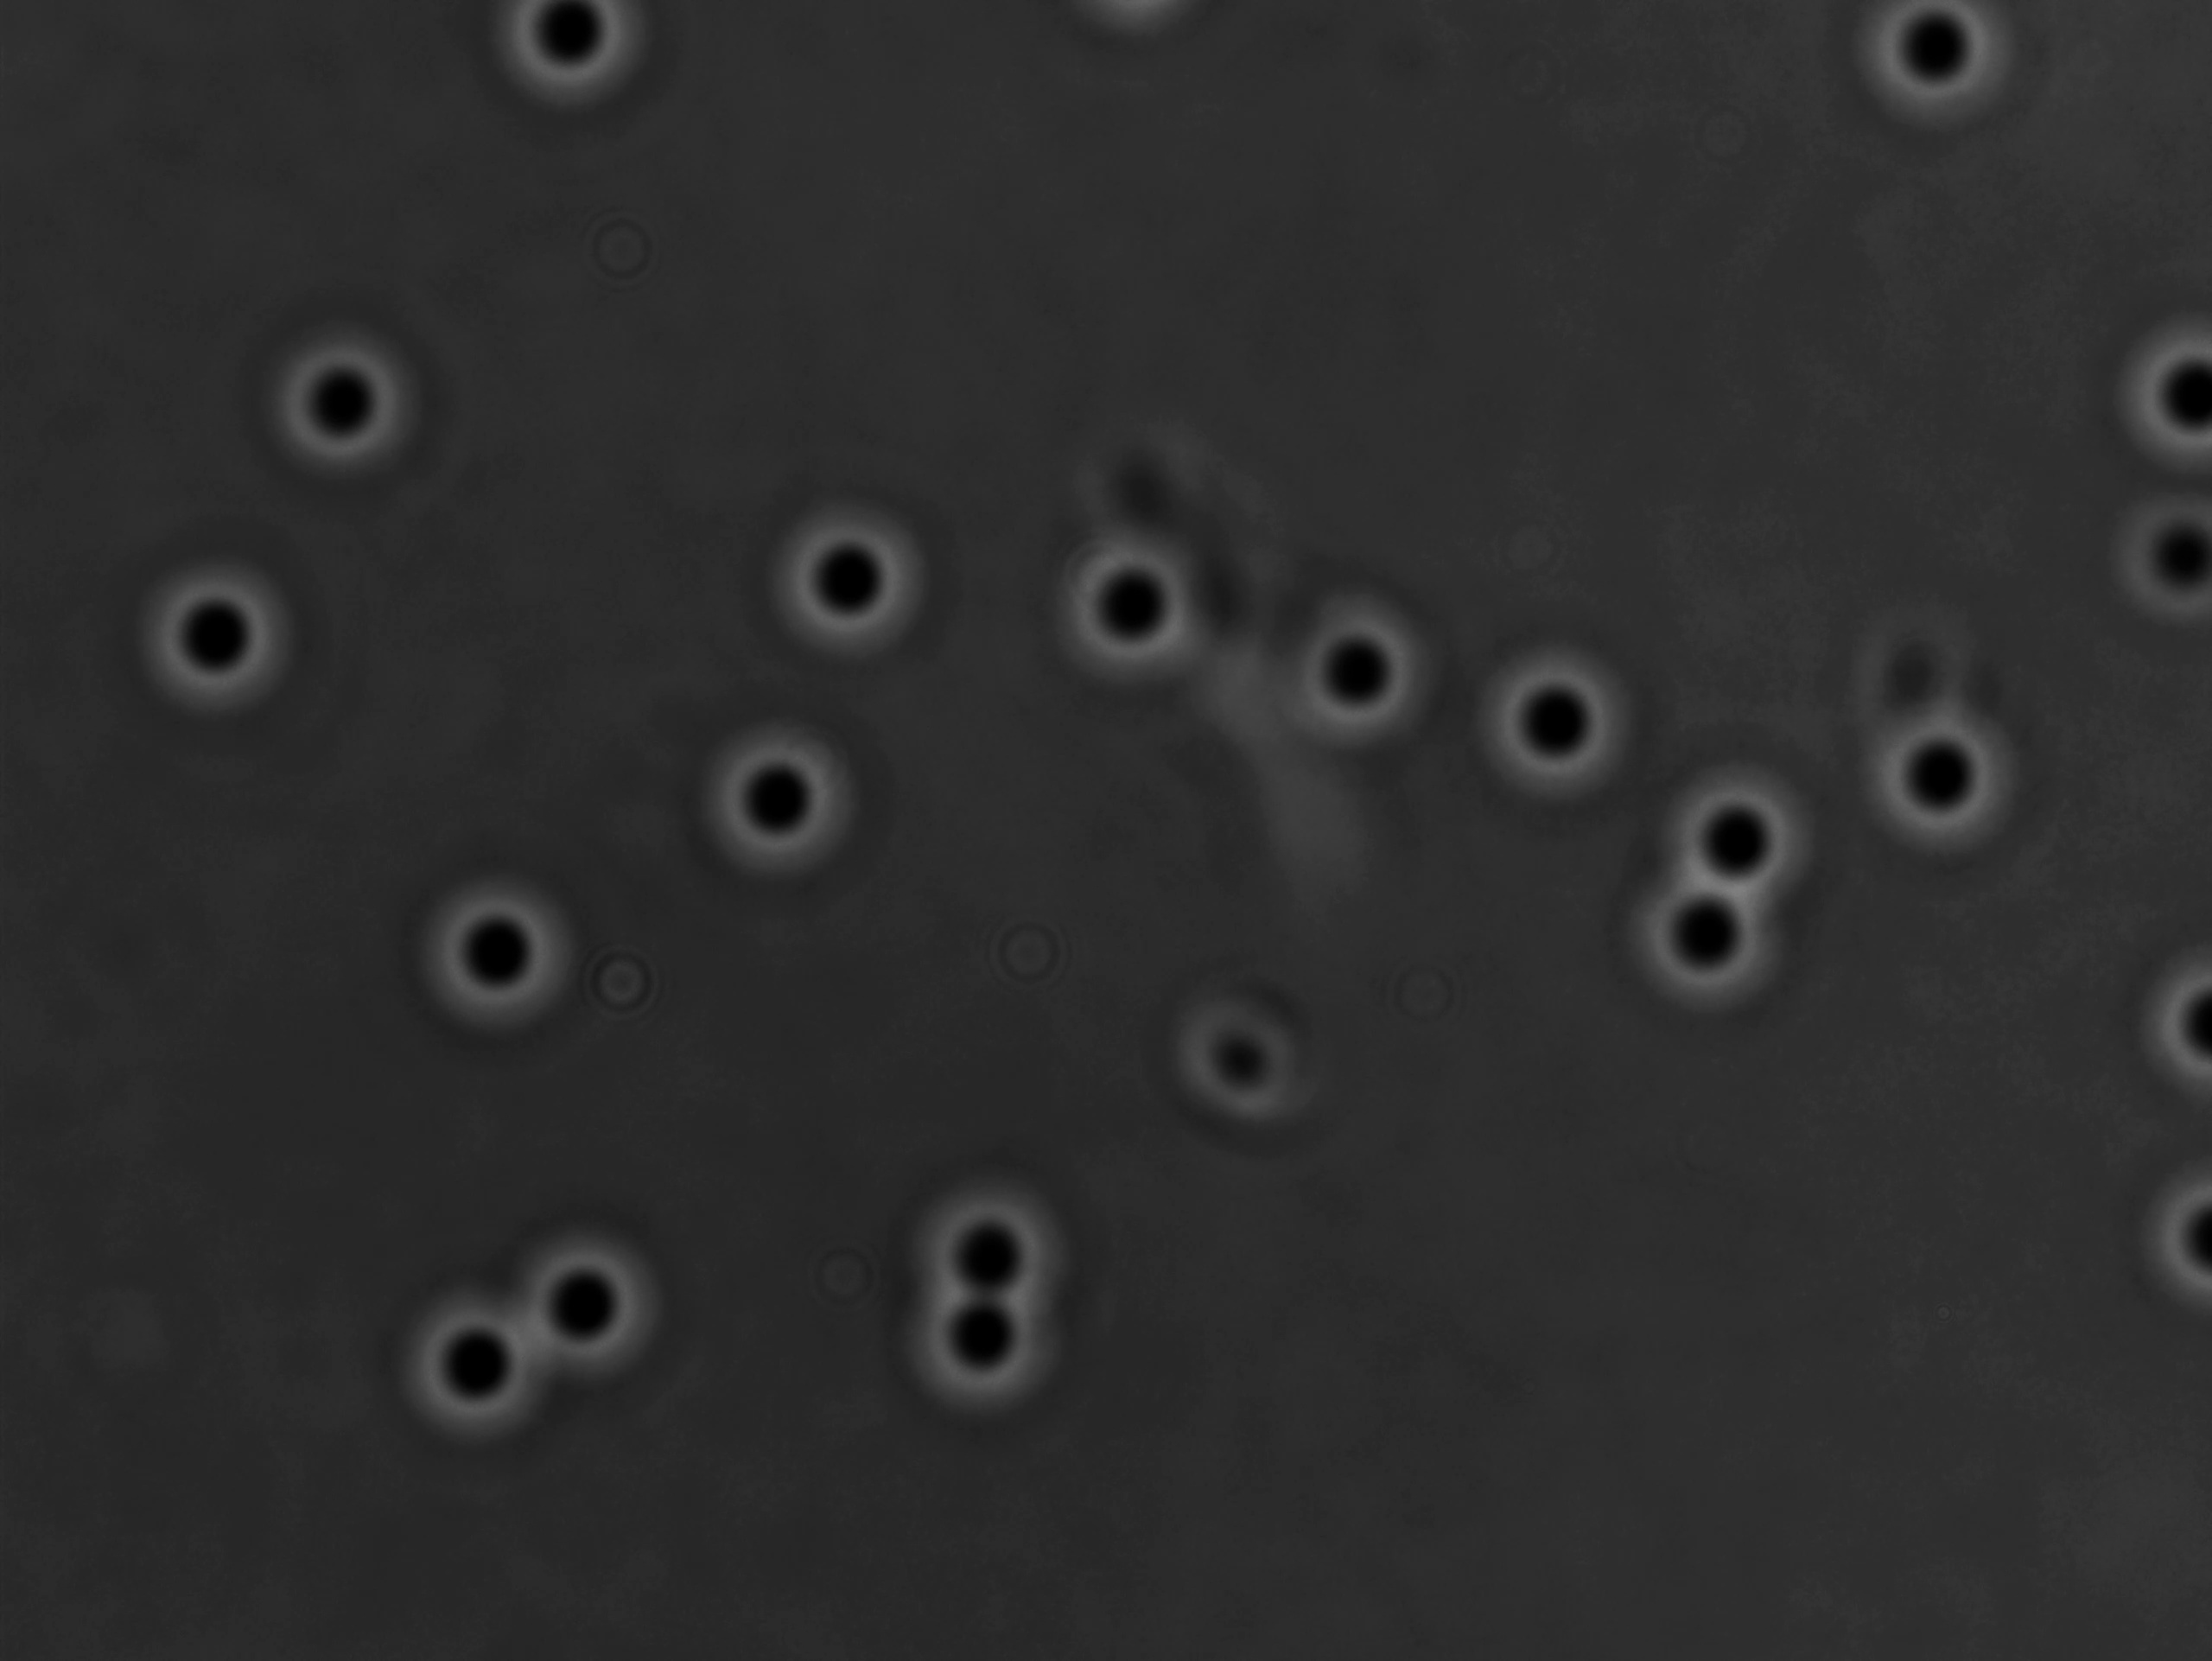depth:-80: (680, 710, 888, 904), (754, 499, 942, 686), (1043, 523, 1230, 712), (1847, 694, 2034, 871), (1640, 747, 1826, 921), (131, 553, 319, 726), (893, 1174, 1085, 1343), (260, 318, 445, 489), (1471, 630, 1647, 808), (1619, 855, 1807, 1021), (895, 1268, 1076, 1431), (406, 874, 584, 1038), (391, 1274, 560, 1443), (502, 1220, 673, 1385), (1277, 593, 1451, 755), (2097, 293, 2212, 492)
